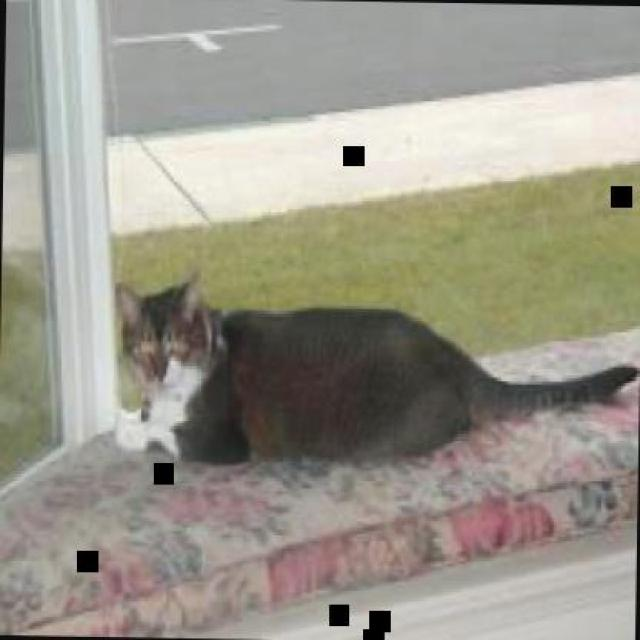cat: (106, 272, 639, 474)
